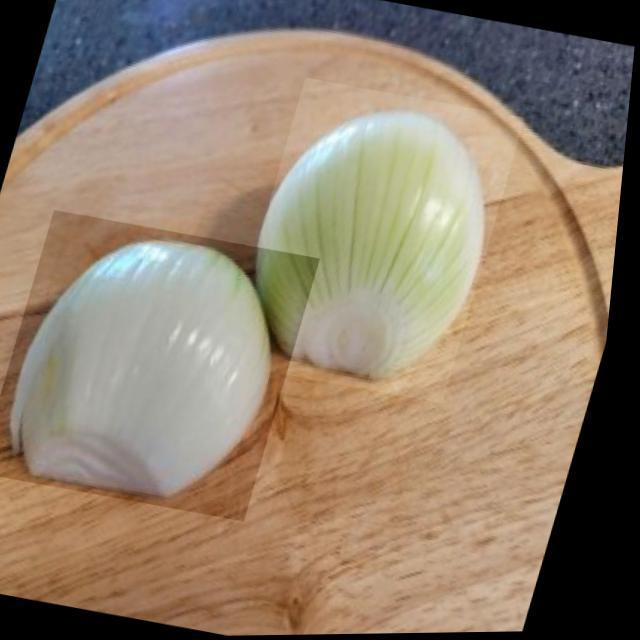Onion: (0, 207, 330, 526), (226, 76, 532, 408)
